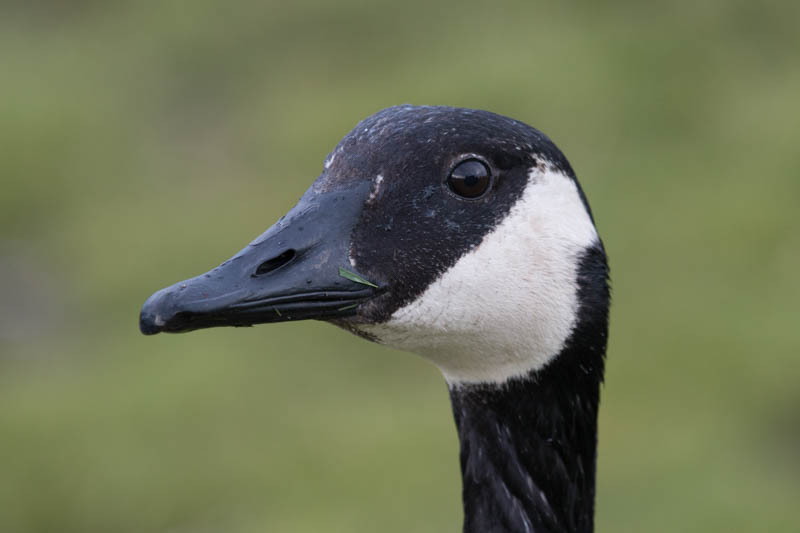goose-head: (138, 104, 611, 386)
